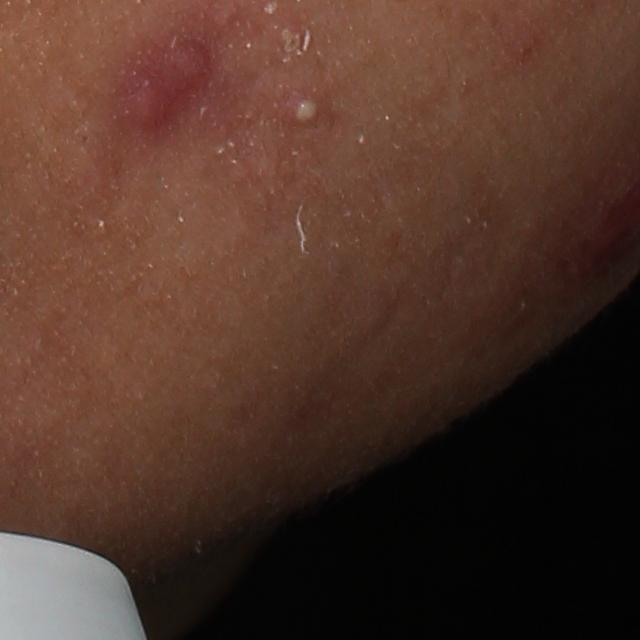papule: (122, 81, 172, 129), (165, 43, 209, 96)
pustule: (291, 93, 325, 128)
